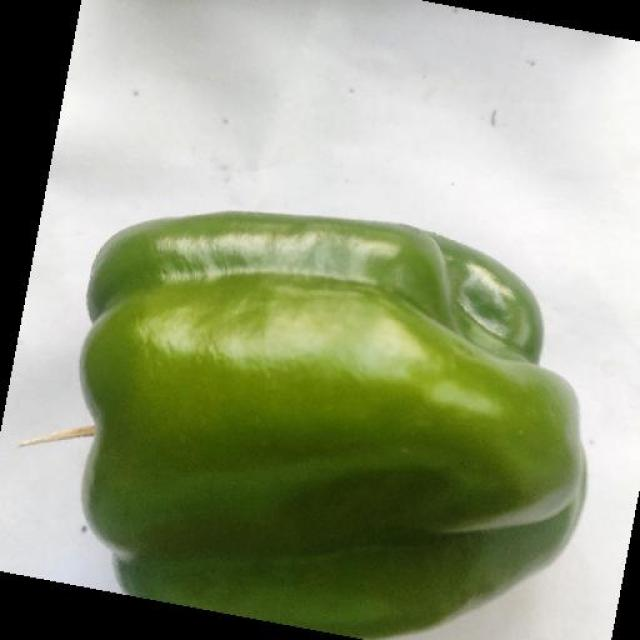Stale_Capsicum: (119, 227, 513, 616)
